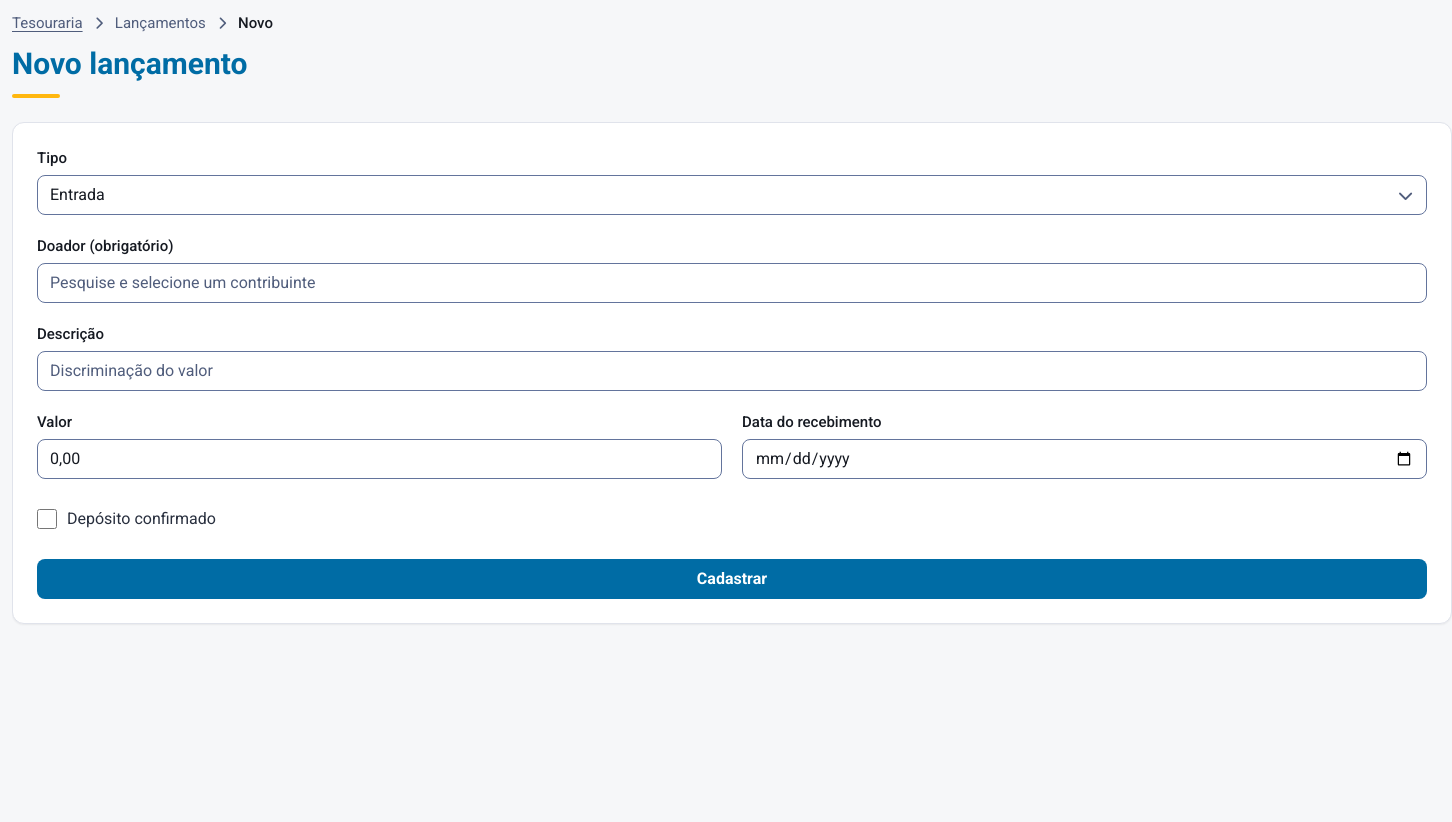
Test case: novo lançamento counterpart integration › submits one canonical amount field with the other form values
The width and height of the screenshot is (1452, 822).
Replace the text in the field labelled "Valor" with "1700.58" at (380, 459), box [37, 439, 722, 479]
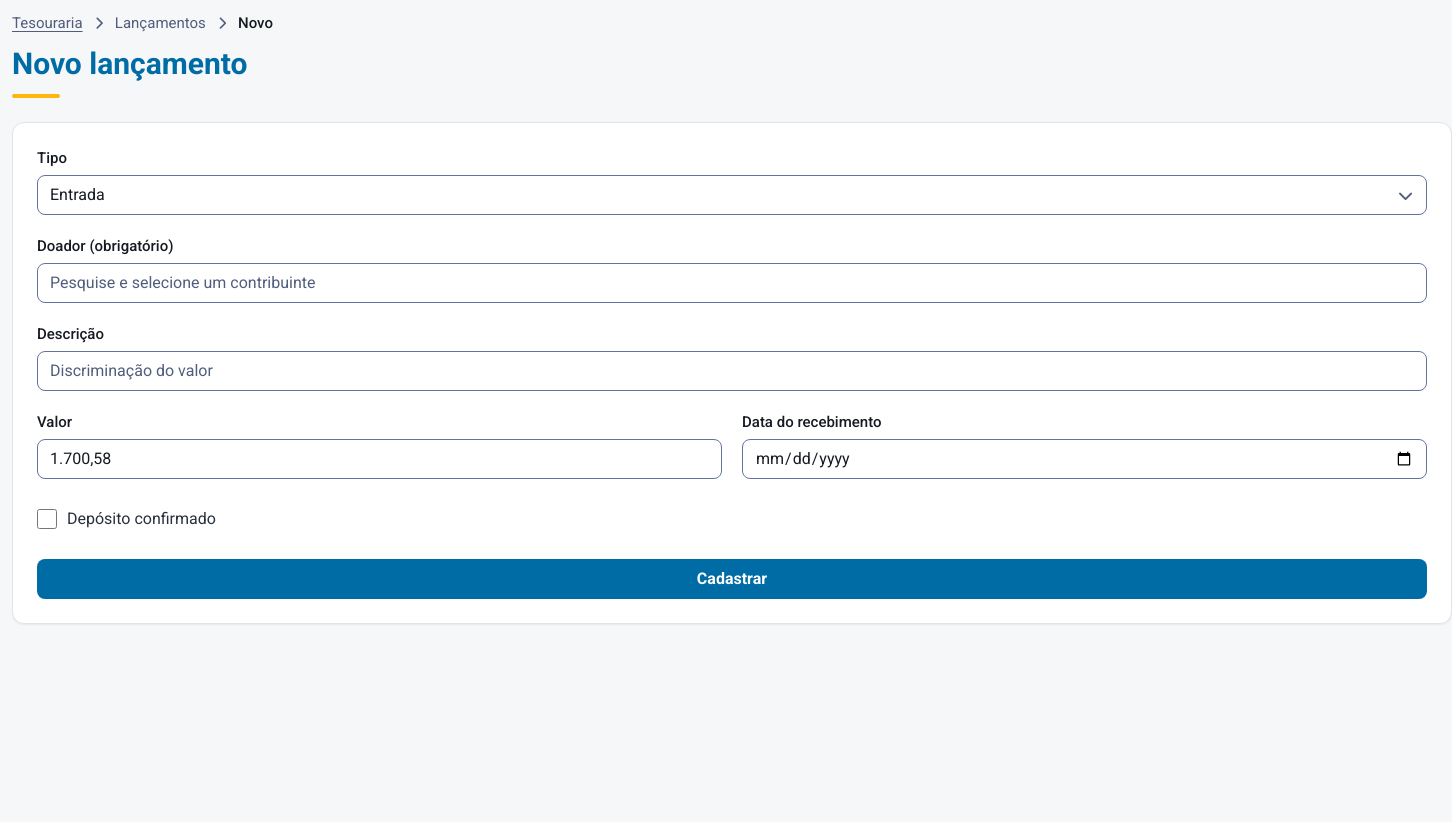
Expected: the field labelled "Valor" holds "1.700,58", [37, 439, 722, 479]
